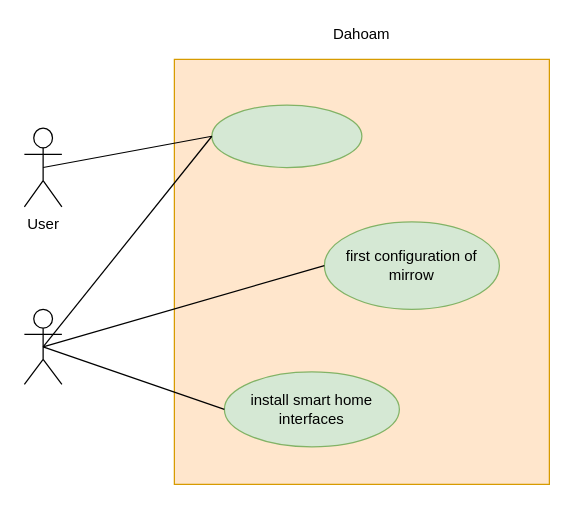
Some shapes in this 571 by 506 pixel diagram are drawn without their labels. The shapes that lost their labels are listed below. From the top down, each one's box as (x1, y1, x2, y2) in pixels, then its label:
(211, 104, 362, 168): delete user
(23, 308, 62, 384): Admin
